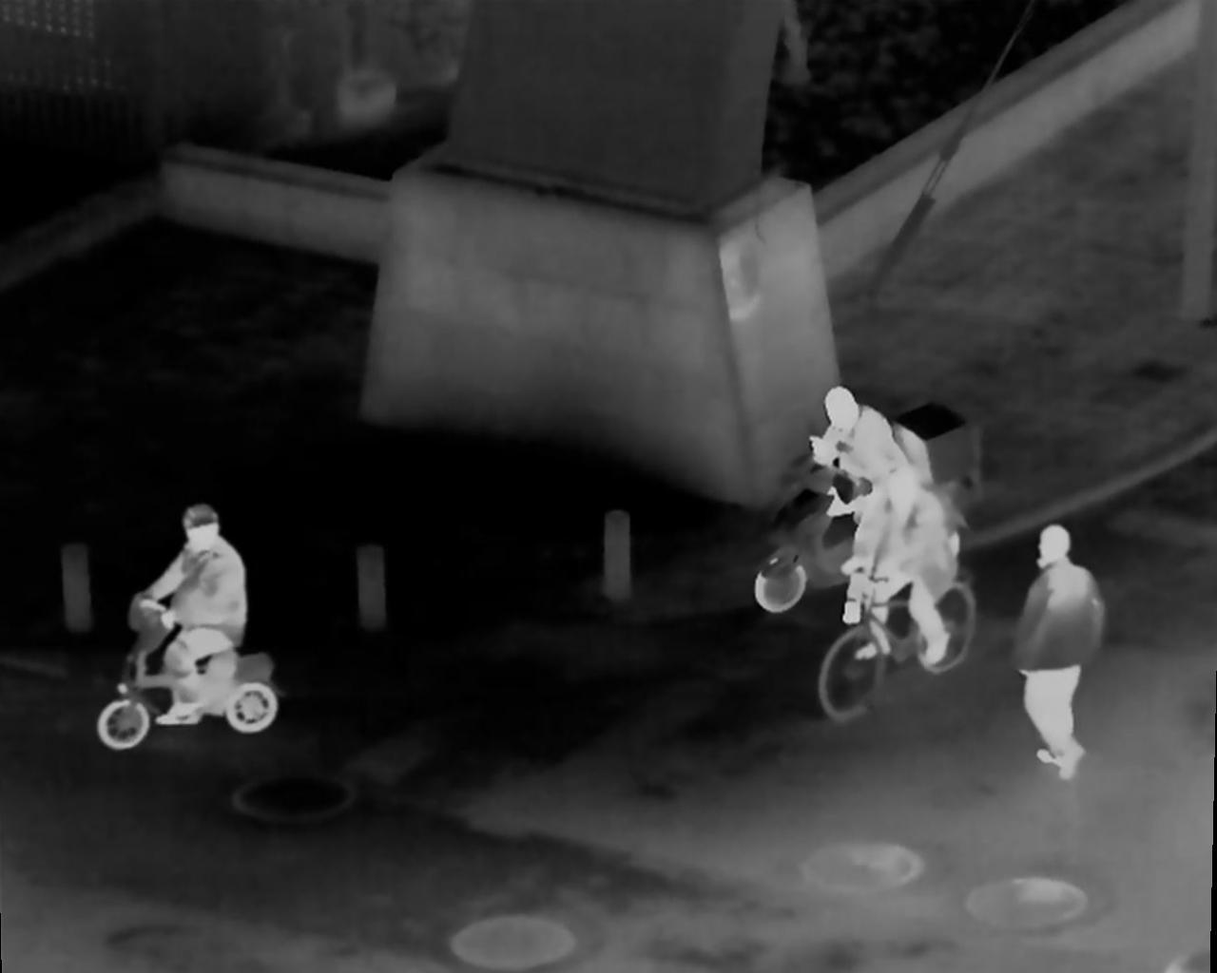person: (826, 451, 955, 685), (1006, 516, 1115, 785), (157, 507, 261, 734), (818, 384, 895, 599)
